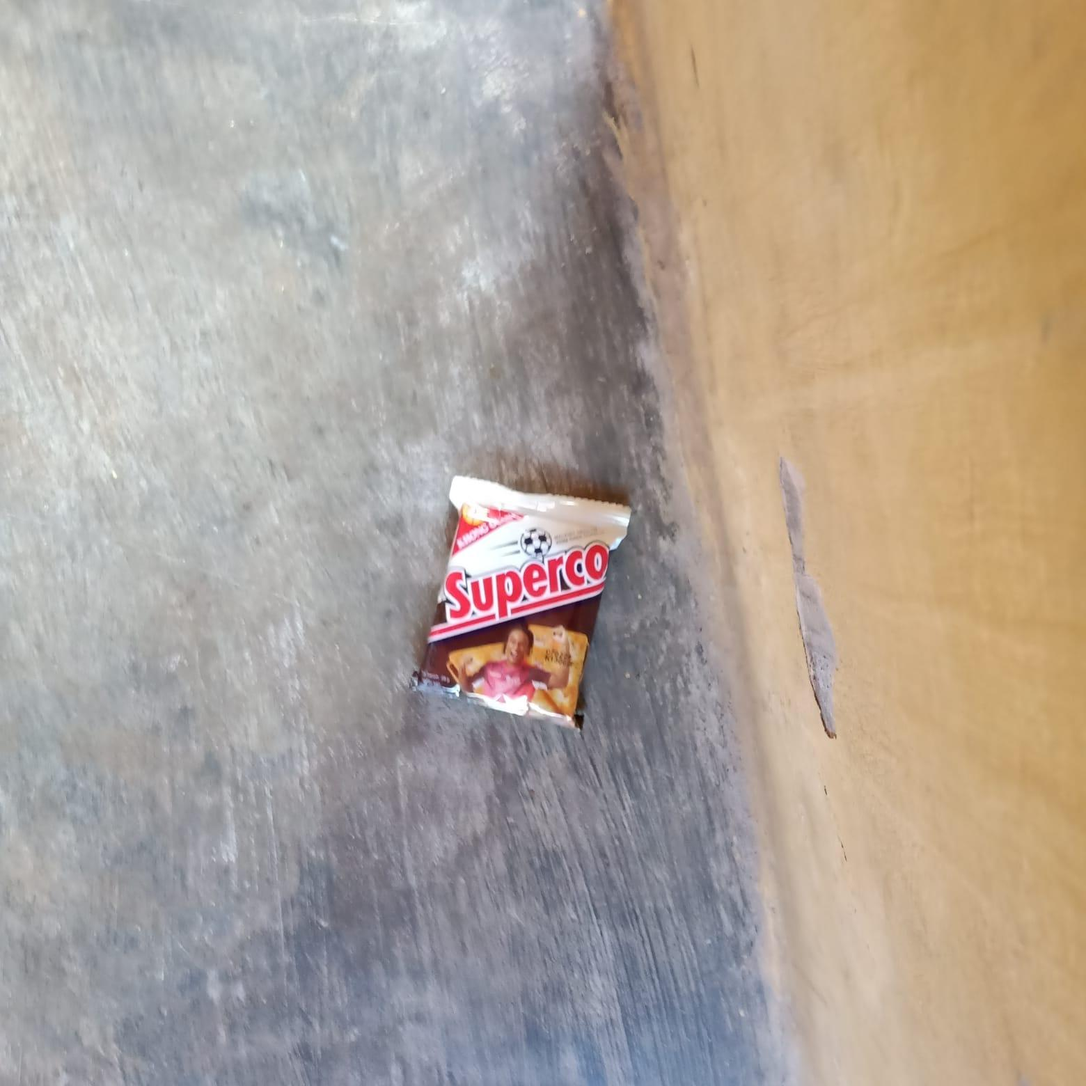Plastik: (411, 475, 630, 733)
